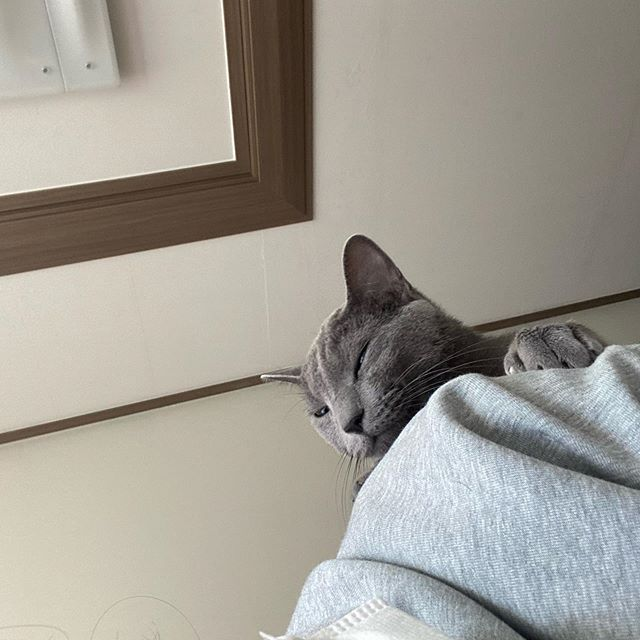cat: (259, 232, 477, 466)
